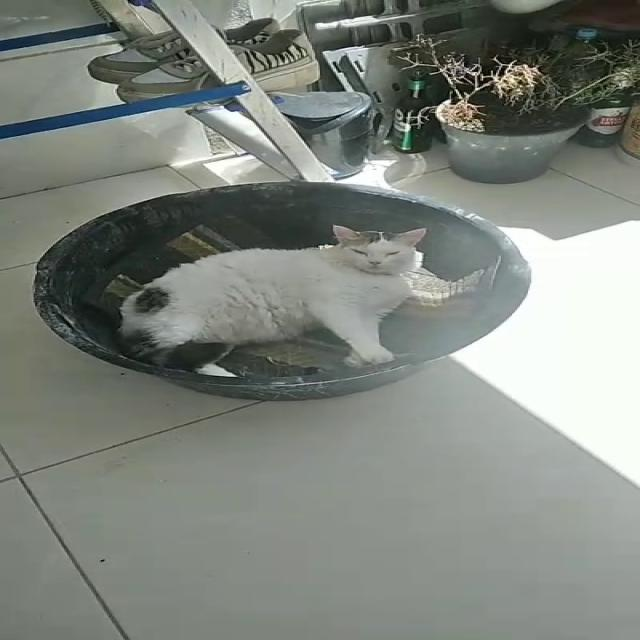Simba: (116, 216, 459, 352)
